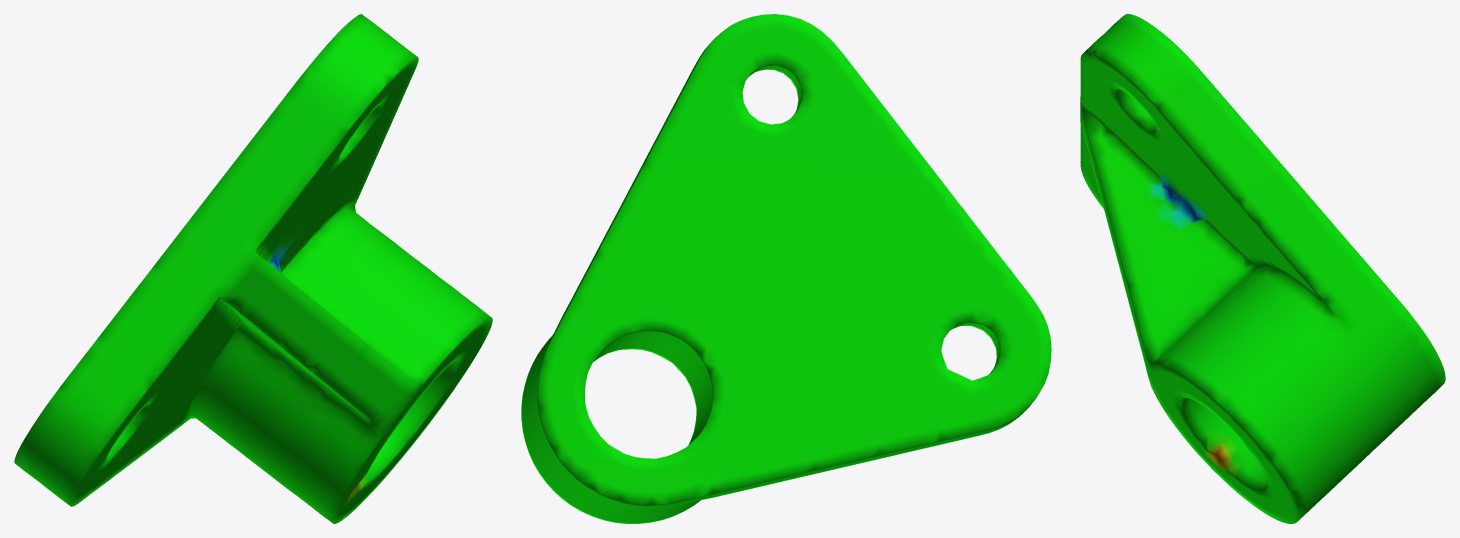
File: all=0.000040-hole=0.008476-context.obj
The picture shows the model from 3 angles, left to right: view 1: azimuth 30°, elevation 25°; view 2: azimuth 150°, elevation 25°; view 3: azimuth 270°, elevation 25°; orthographic projection. The views are drawn at different scales.
Size of the model in its own units: 61.65 by 61.64 by 44.13.
